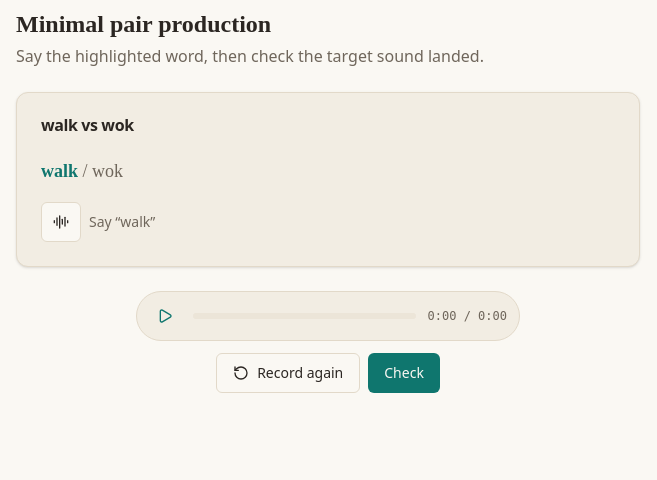
Test: ProductionDrill › should surface an actionable message when the clip is too weak
Click the button "Check" at (404, 373), box [368, 353, 440, 393]
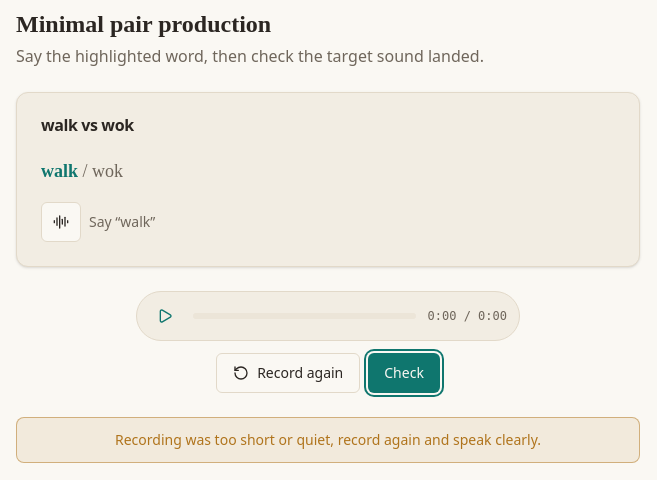
Check: the message shows "too short or quiet", box [115, 430, 541, 449]
